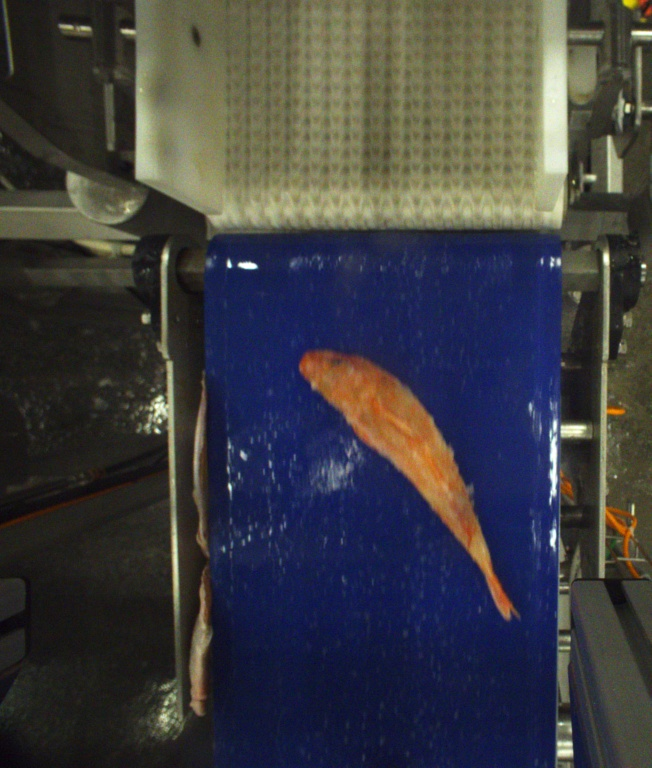GUU: (297, 348, 519, 622)
